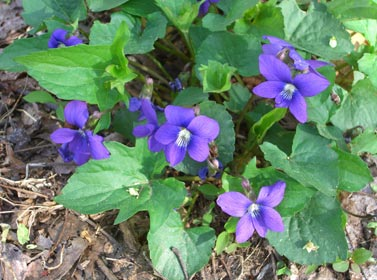violet: (254, 56, 332, 133), (152, 107, 225, 168), (221, 184, 292, 246), (48, 111, 113, 175)
